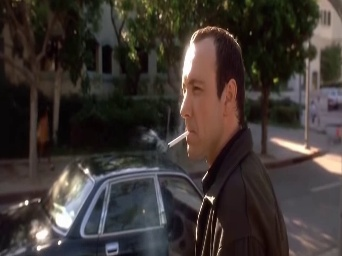smoke: (165, 129, 191, 149)
